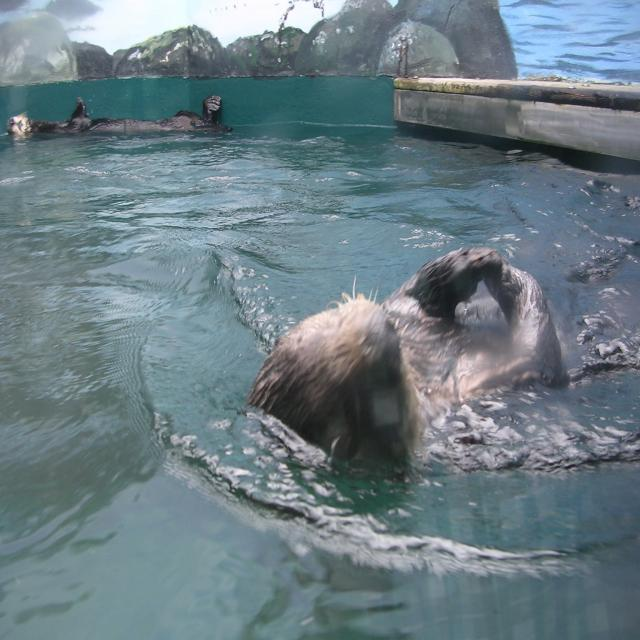otter: (252, 247, 563, 458), (7, 95, 227, 134)
